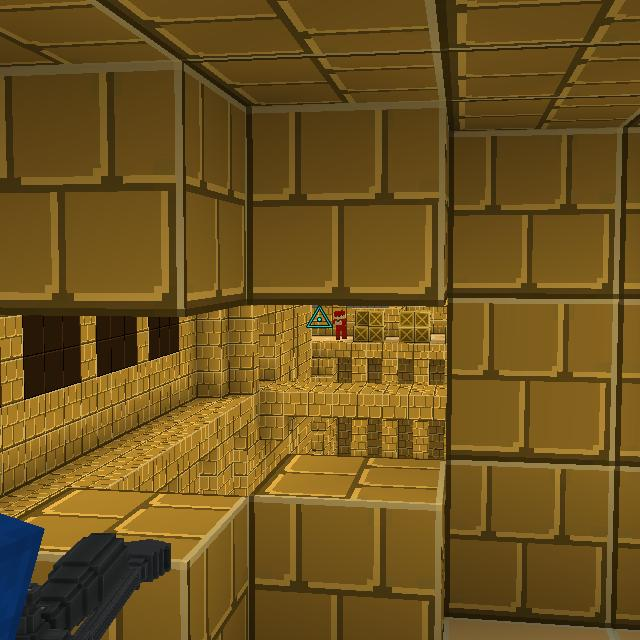enemy: (332, 309, 348, 340)
